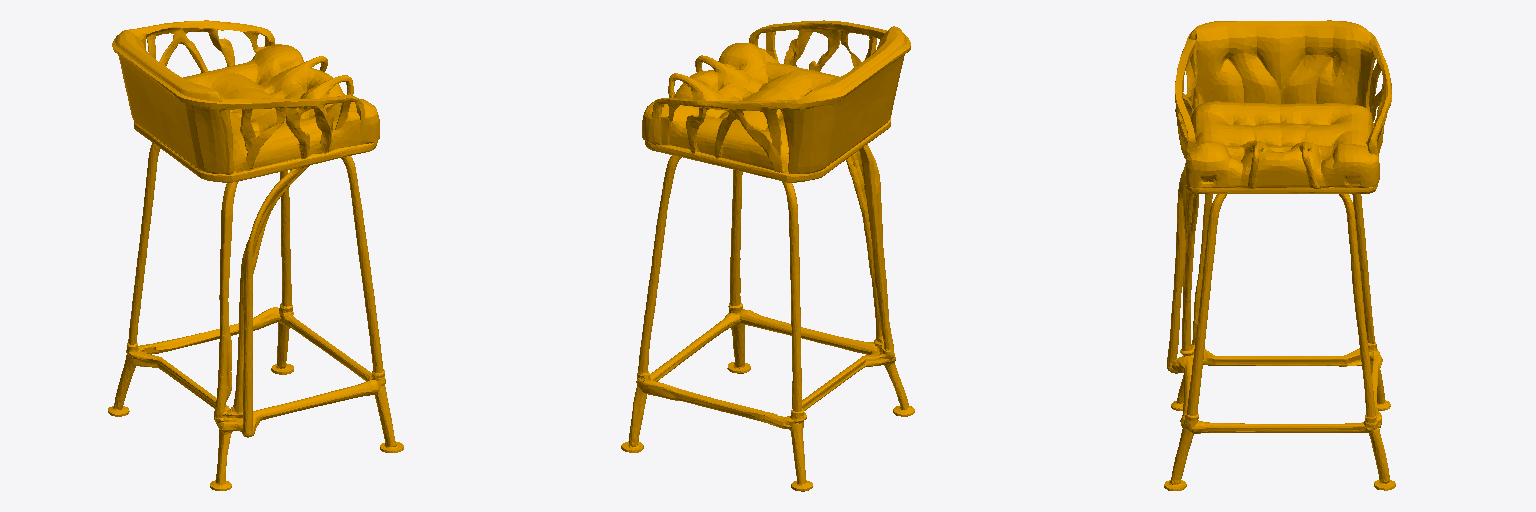
robot.urdf — bar_stool_36:
<?xml version="1.0" ?>
<robot name="bar_stool_36">
   <link name="bar_stool_36">
      <visual>
         <origin xyz="0 0 0" rpy="1.5708 0.0 0.0"/>
         <geometry>
            <mesh filename="mesh/bar_stool_36.obj" scale="1.0 1.0 1.0"/>
         </geometry>
      </visual>
      <collision>
         <origin xyz="0 0 0" rpy="1.5708 0.0 0.0"/>
         <geometry>
            <mesh filename="mesh/bar_stool_36_collision.obj" scale="1.0 1.0 1.0"/>
         </geometry>
         <gazebo>
            <mu1>0.80</mu1>
            <mu2>0.60</mu2>
         </gazebo>
      </collision>
      <inertial>
         <mass value="8.0000"/>
         <origin xyz="0 0 0"/>
         <inertia ixx="1.0" ixy="0.0" ixz="0.0" iyy="1.0" iyz="0.0" izz="1.0"/>
      </inertial>
      <extra_info>
         <scale>1.000000</scale>
         <version>v0.1.5</version>
         <category>bar_stool</category>
         <description>modern bar stool with orange cushioned seat and black metal frame</description>
         <min_height>0.9</min_height>
         <max_height>1.1</max_height>
         <real_height>1.0</real_height>
         <min_mass>6.0</min_mass>
         <max_mass>10.0</max_mass>
         <generate_time>20251021124523</generate_time>
         <gs_model>mesh/bar_stool_36_gs.ply</gs_model>
      </extra_info>
   </link>
   <custom_data>
      <quality>
         <MeshGeoChecker>YES</MeshGeoChecker>
         <ImageSegChecker>YES</ImageSegChecker>
         <ImageAestheticChecker>4.8965829610824585</ImageAestheticChecker>
         <overall>YES</overall>
      </quality>
   </custom_data>
</robot>

--- What the picture shows (computed from the rendered views, not written in the file) ---
Views: 3 orthographic renders of the robot side by side, from view 1: azimuth 30°, elevation 25°; view 2: azimuth 150°, elevation 25°; view 3: azimuth 270°, elevation 25°.
Model bar_stool_36 with 1 links and 0 joints (none), rooted at bar_stool_36, posed all joints at 0.
Links seen in each view (by area): view 1: bar_stool_36; view 2: bar_stool_36; view 3: bar_stool_36.
Link boxes in pixels (x1,y1,x2,y2): bar_stool_36: [108, 20, 403, 490]; bar_stool_36: [621, 20, 914, 491]; bar_stool_36: [1164, 20, 1395, 490].
Bounding box of the posed robot: 0.5439 × 0.5534 × 1 m (x, y, z).
Meshes: 1 distinct files referenced, 1 mesh visuals loaded (1 OBJ).
